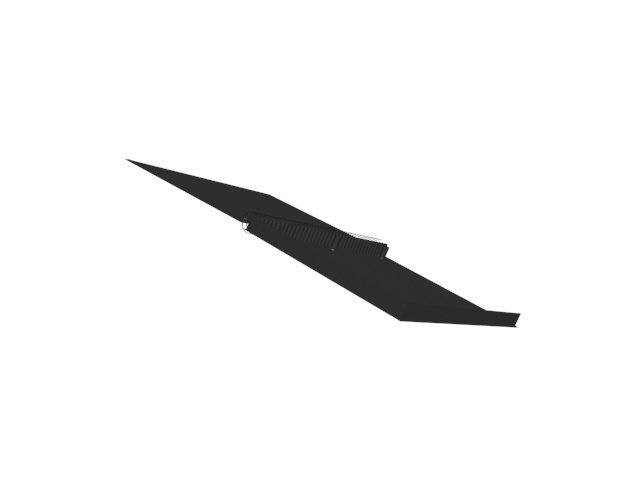paper_notebook: (121, 153, 528, 328)
